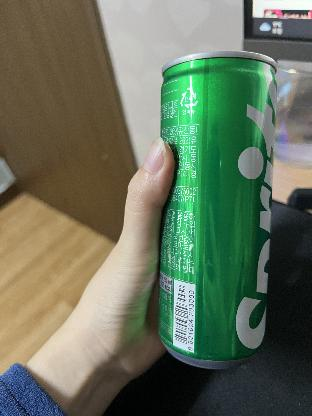Can: (160, 51, 278, 369)
